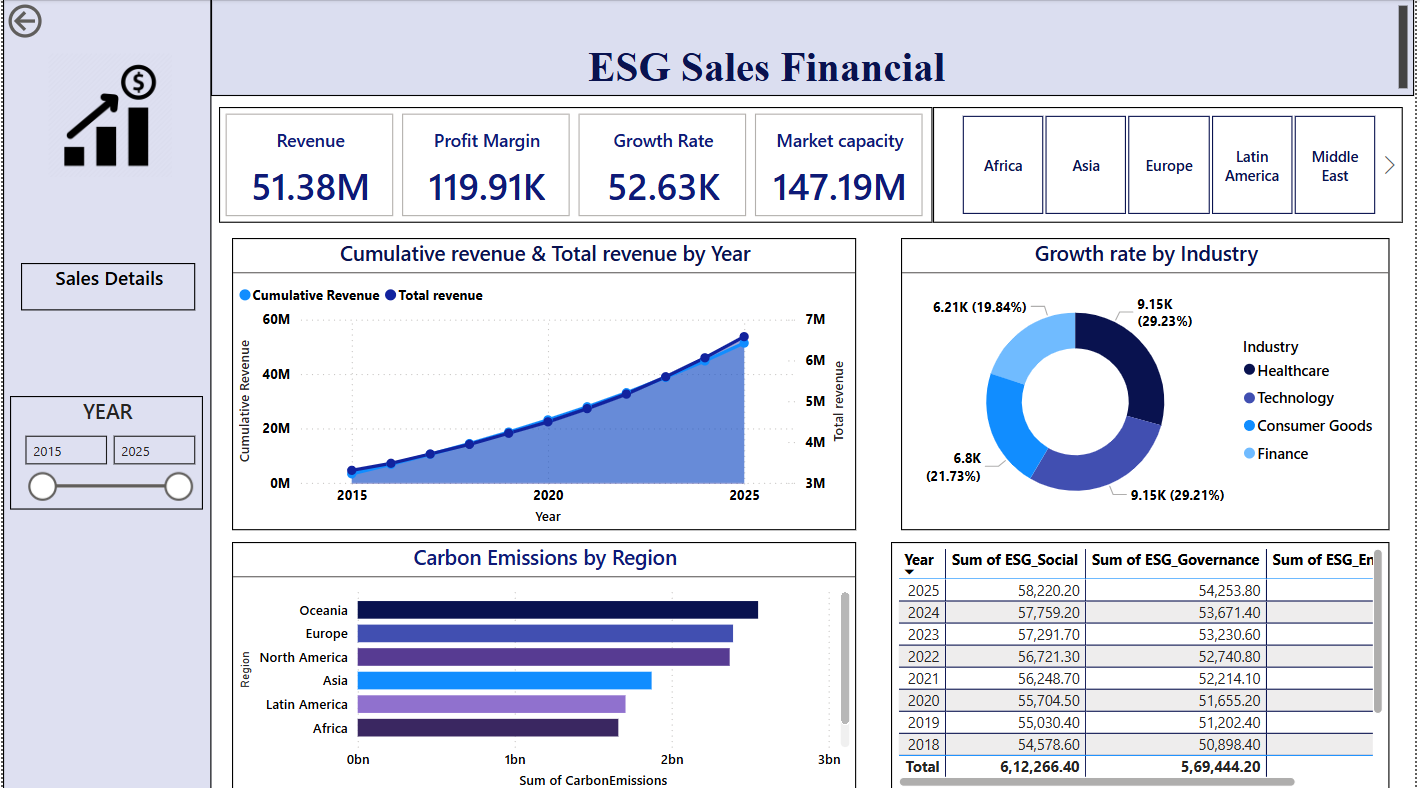

The dashboard page shown, as its layout file describes it:
{"tool":"powerbi","page":{"name":"Overview dashboard","canvas":[1280,720],"ordinal":0},"visuals":[{"type":"textbox","box":[0,0,189,720],"z":0},{"type":"actionButton","title":"Sales Details","box":[16,239,158,43],"z":1000},{"type":"slicer","title":"YEAR","fields":{"Values":["company_esg_financial_dataset.Year"]},"box":[6,360,175,103],"z":2000},{"type":"textbox","box":[189,0,1091,88],"z":3000},{"type":"actionButton","box":[0,0,100,40],"z":4000},{"type":"cardVisual","title":"Revenue","fields":{"Data":["company_esg_financial_dataset.Total revenue","company_esg_financial_dataset.total profitmar","company_esg_financial_dataset.Total growth rate","company_esg_financial_dataset.total marketcap"]},"box":[196,98,647,105],"z":5000},{"type":"image","box":[16,44,161,122],"z":6000},{"type":"donutChart","title":"Growth rate by Industry","fields":{"Category":["company_esg_financial_dataset.Industry"],"Y":["company_esg_financial_dataset.Total growth rate"]},"box":[814,217,443,265],"z":7000},{"type":"lineChart","title":"Cumulative revenue & Total revenue by Year","fields":{"Category":["company_esg_financial_dataset.Year"],"Y2":["company_esg_financial_dataset.Total revenue"],"Y":["company_esg_financial_dataset.Cumulative Revenue"]},"box":[208,217,566,265],"z":8000},{"type":"slicer","fields":{"Values":["company_esg_financial_dataset.Region"]},"box":[843,98,426,105],"z":9000},{"type":"barChart","title":"Carbon Emissions by Region","fields":{"Category":["company_esg_financial_dataset.Region"],"Y":["Sum(company_esg_financial_dataset.CarbonEmissions)"]},"box":[208,492,566,228],"z":10000},{"type":"tableEx","fields":{"Values":["company_esg_financial_dataset.Year","Sum(company_esg_financial_dataset.ESG_Social)","Sum(company_esg_financial_dataset.ESG_Governance)","Sum(company_esg_financial_dataset.ESG_Environmental)"]},"box":[805,492,452,228],"z":11000}]}

Visuals, with their boxes in screenshot pixels (x1, y1, x2, y2):
textbox: 0,0,208,787
"Sales Details" actionButton: 14,260,191,308
"YEAR" slicer: 3,395,199,510
textbox: 208,0,1419,91
actionButton: 0,0,108,37
"Revenue" cardVisual: 216,102,939,220
image: 14,42,194,178
"Growth rate by Industry" donutChart: 907,235,1402,532
"Cumulative revenue & Total revenue by Year" lineChart: 229,235,862,532
slicer - company_esg_financial_dataset.Region: 939,102,1416,220
"Carbon Emissions by Region" barChart: 229,543,862,787
tableEx - company_esg_financial_dataset.Year x Sum(company_esg_financial_dataset.ESG_Social): 897,543,1402,787
